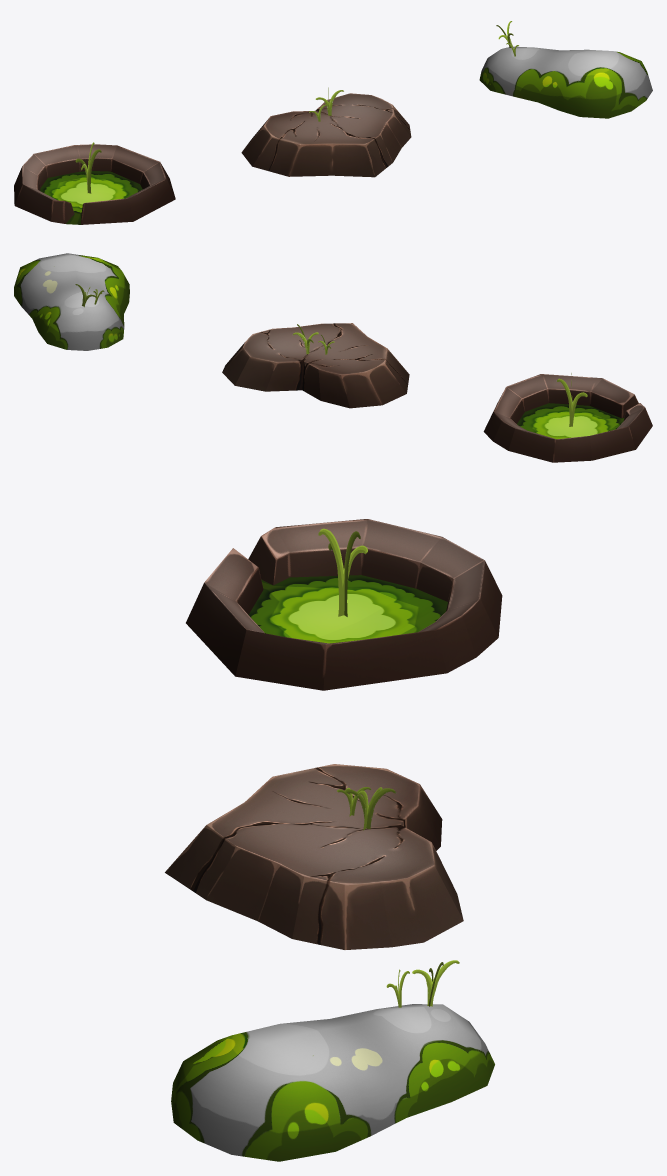
File: Rocas_Prop3.fbx
3 views of the same model, one above another, from view 1: azimuth 30°, elevation 25°; view 2: azimuth 150°, elevation 25°; view 3: azimuth 270°, elevation 25° (orthographic). The views are drawn at different scales.
Parts seen in each view (by area): view 1: Roca_Corazón, Roca_isleta, Roca_Variante1; view 2: Roca_isleta, Roca_Corazón, Roca_Variante1; view 3: Roca_isleta, Roca_Corazón, Roca_Variante1.
Part boxes in pixels (<box>): Roca_Corazón: <box>241,87,411,177</box>; Roca_isleta: <box>14,142,175,224</box>; Roca_Variante1: <box>479,21,652,118</box>; Roca_isleta: <box>483,373,652,462</box>; Roca_Corazón: <box>222,323,409,408</box>; Roca_Variante1: <box>14,253,129,350</box>; Roca_isleta: <box>186,519,502,690</box>; Roca_Corazón: <box>165,764,463,949</box>; Roca_Variante1: <box>171,960,494,1161</box>.
Bounding box in the file's own units: 312 × 31.83 × 74.6.
